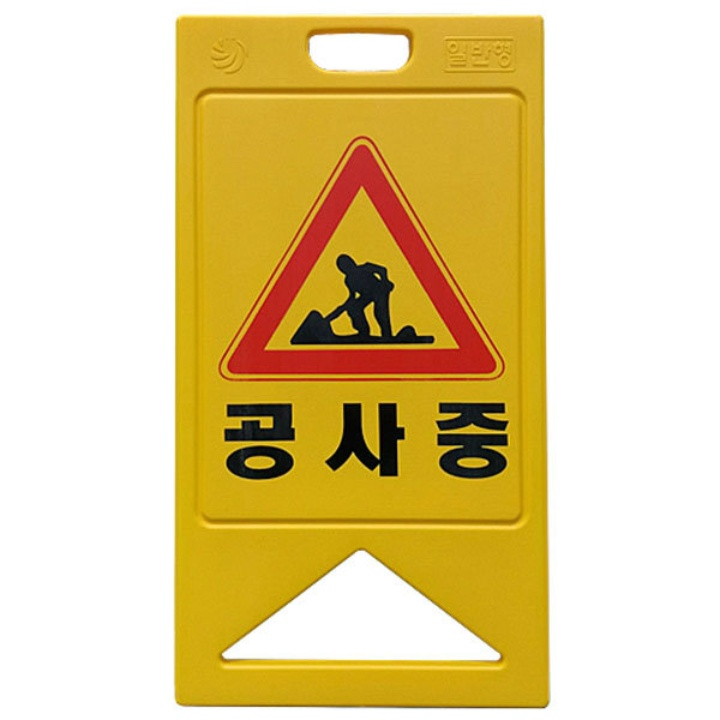const: (287, 250, 435, 345)
